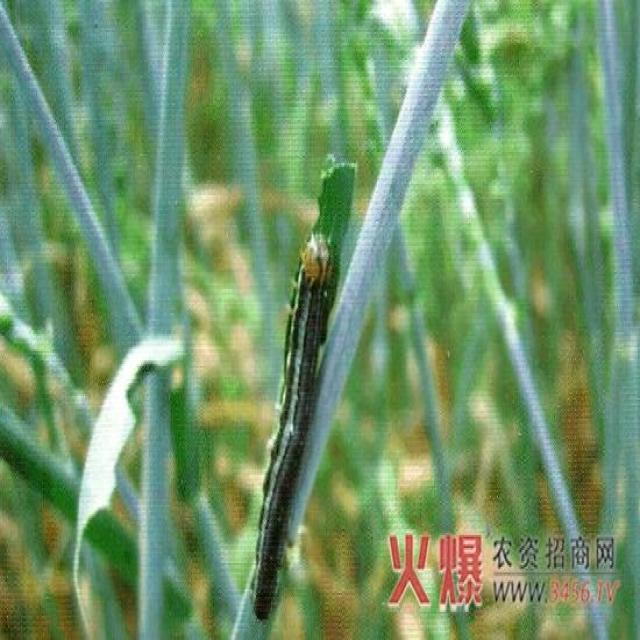army worm: (242, 236, 337, 622)
